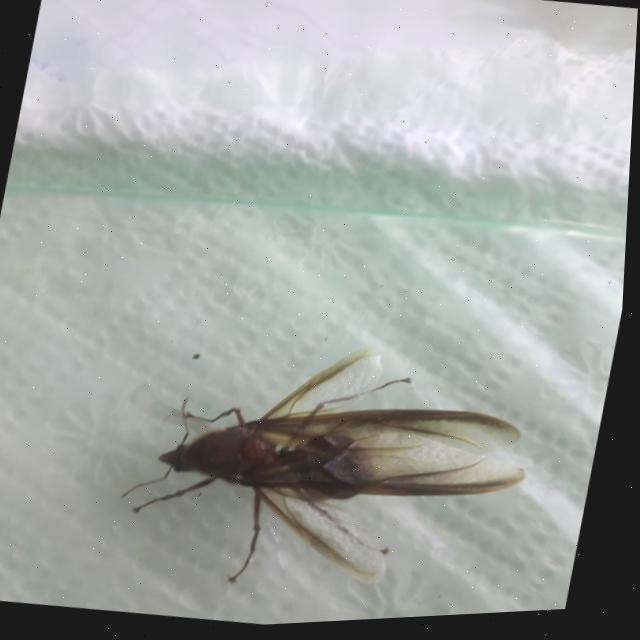Alive-Male-Alate: (109, 310, 554, 631)
